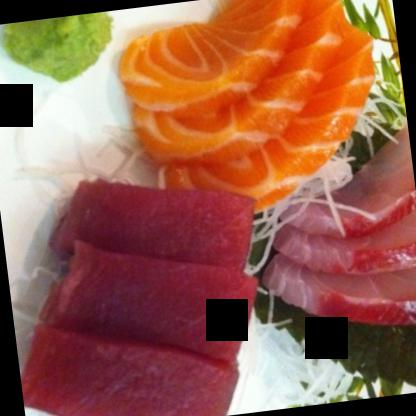salmon: (109, 0, 395, 232)
tuna: (0, 171, 282, 415)
